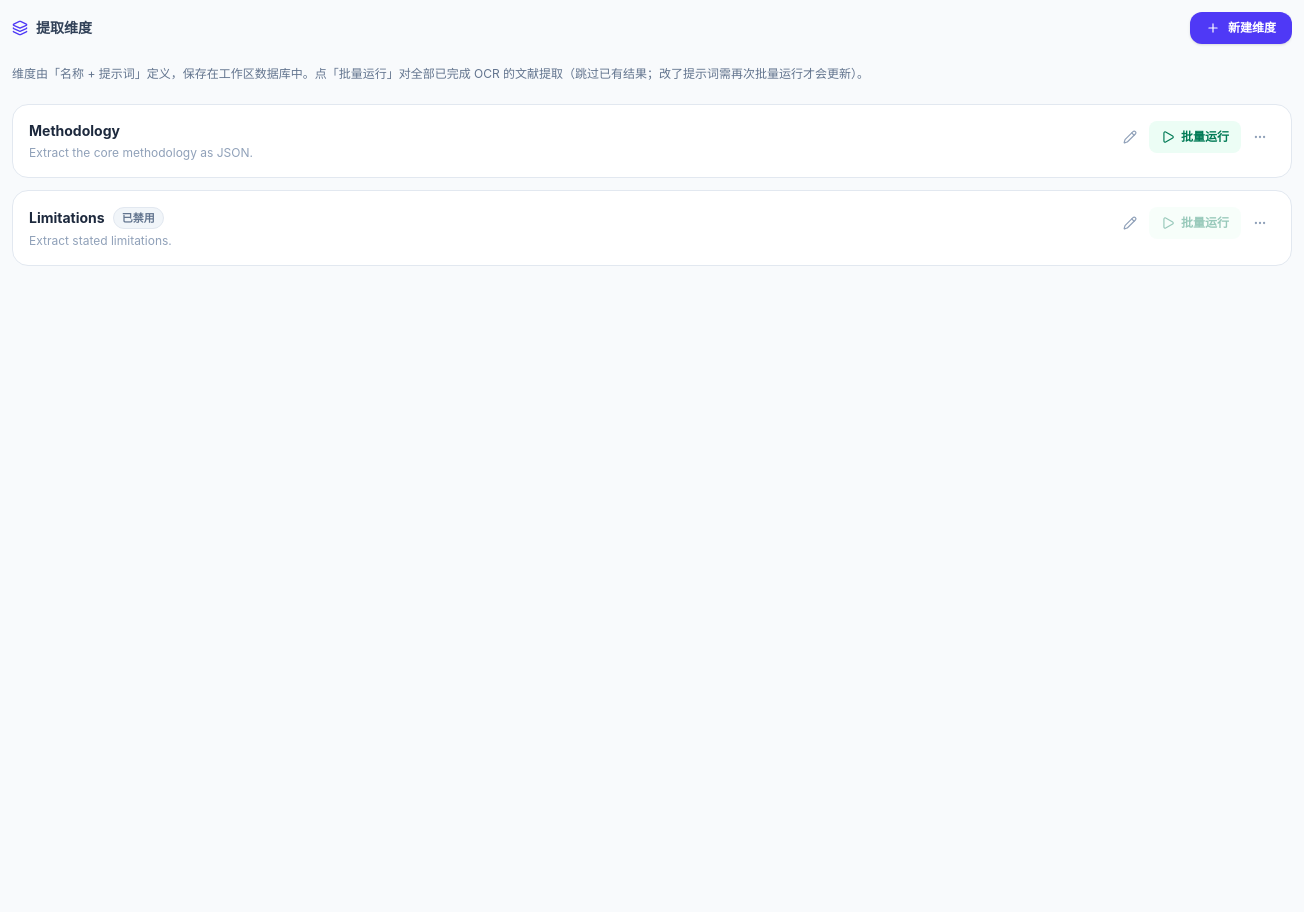
Test case: DimensionManager Component › opens the new-dimension form and keeps Save disabled until label+prompt filled
The width and height of the screenshot is (1304, 912).
Expected: the text "Methodology" is shown, left=29, top=120, right=120, bottom=140
Click the button "新建维度" at (1241, 28), box left=1190, top=12, right=1292, bottom=44
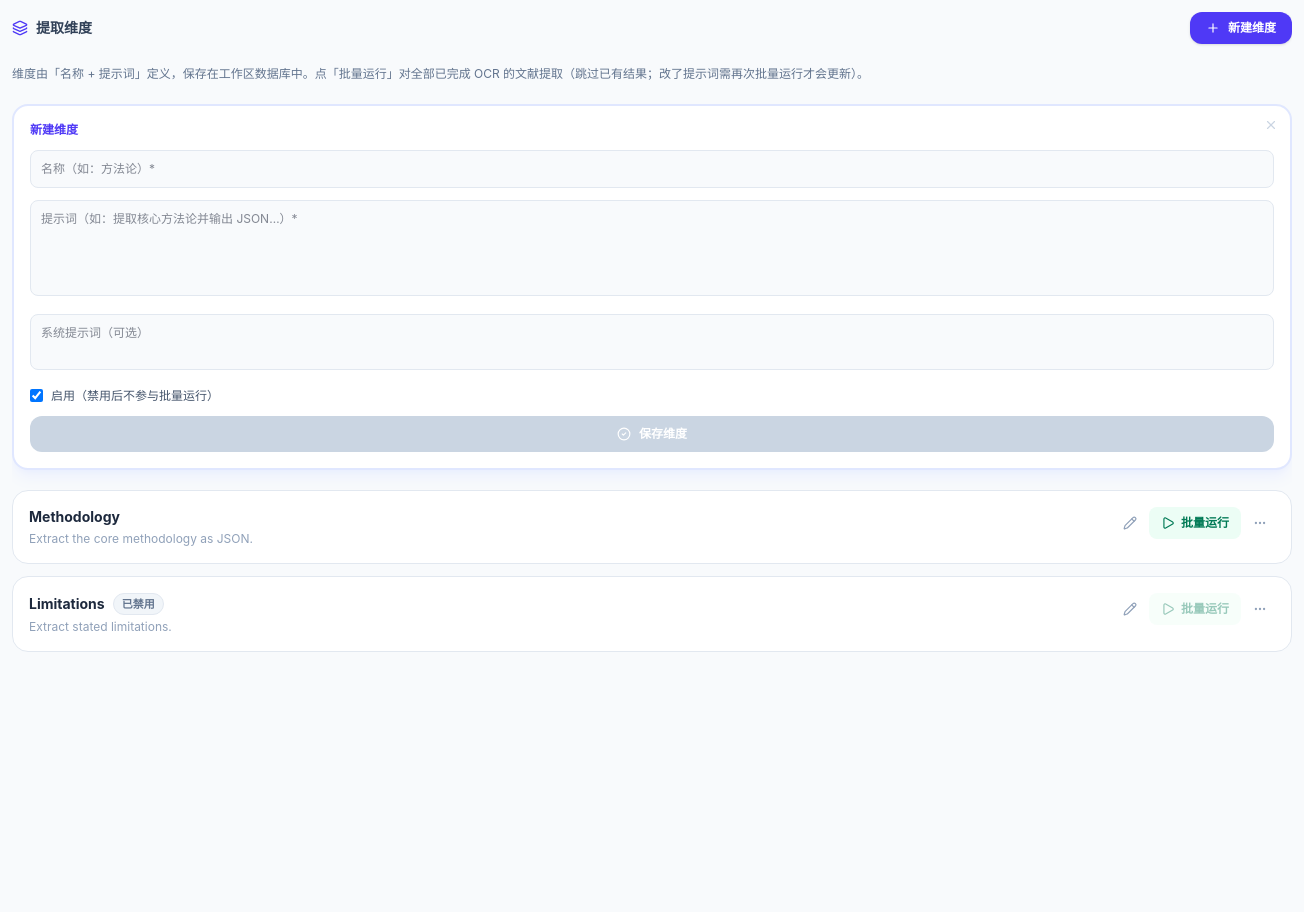
Expected: the button "保存维度" is disabled, left=30, top=416, right=1274, bottom=452
Type "Datasets" into the field named "维度名称" at (652, 168), box left=30, top=150, right=1274, bottom=188
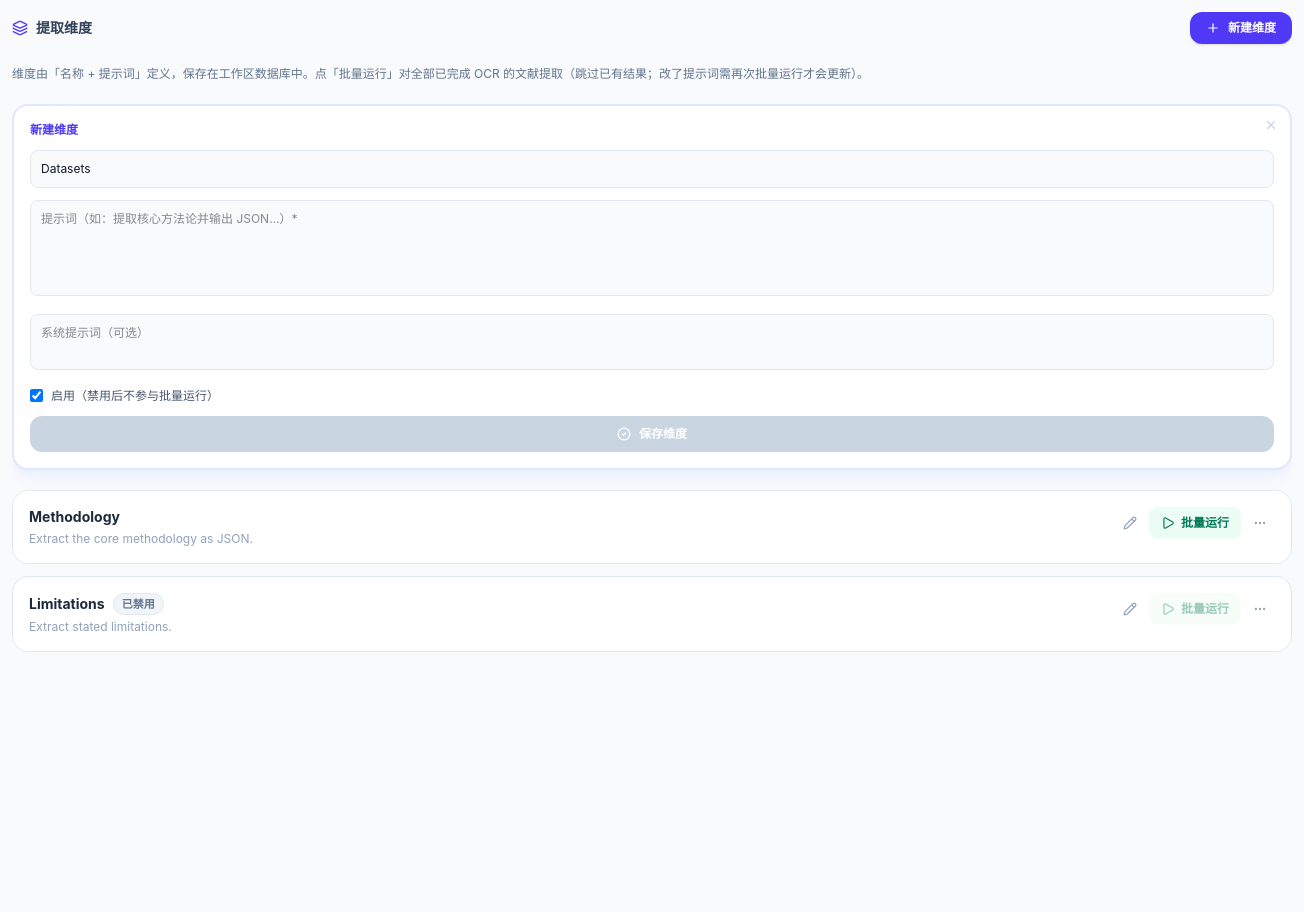
Expected: the button "保存维度" is disabled, left=30, top=416, right=1274, bottom=452
Type "List datasets used." into the text box named "提取提示词" at (652, 248), box left=30, top=200, right=1274, bottom=296
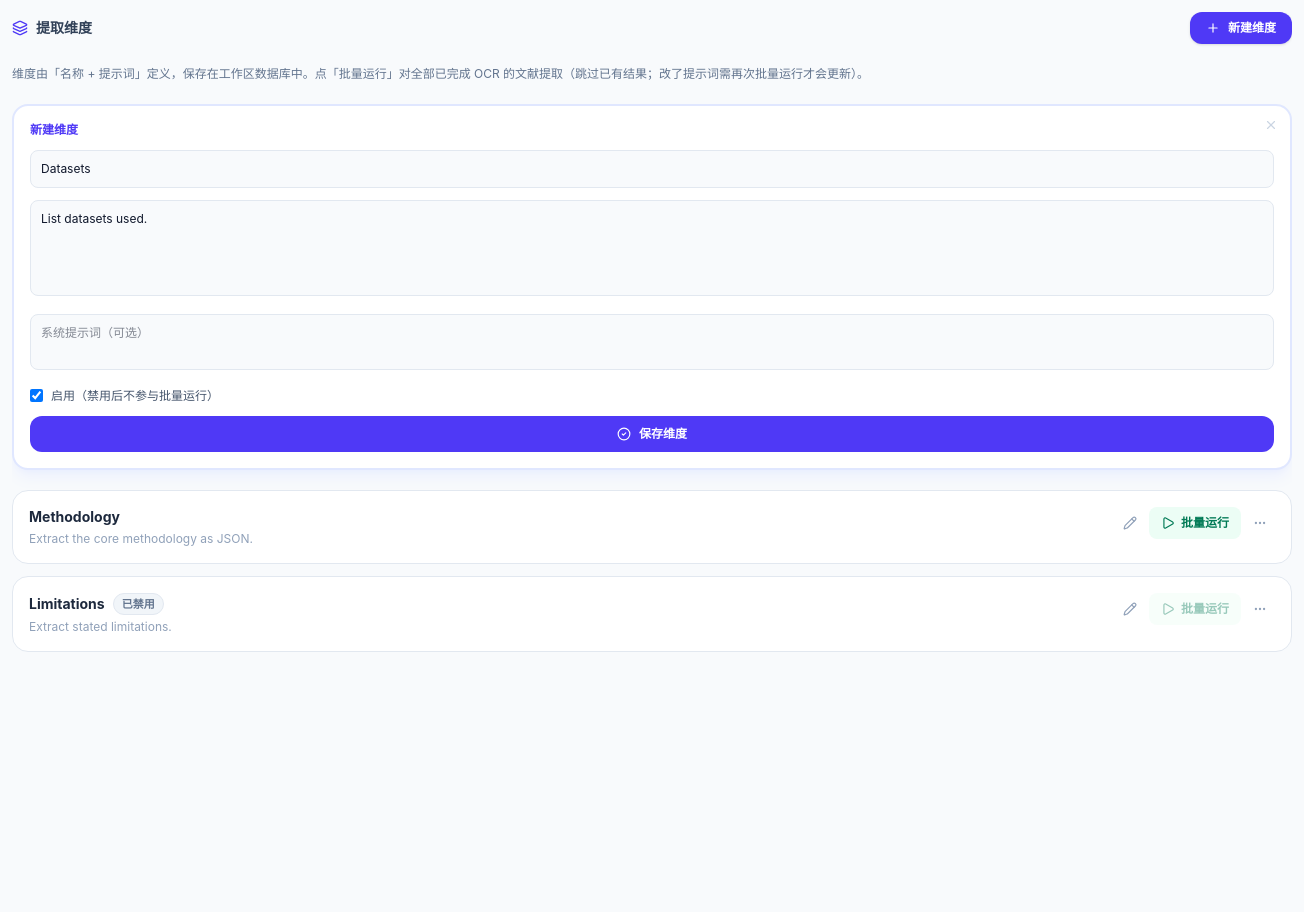
Expected: the button "保存维度" is enabled, left=30, top=416, right=1274, bottom=452
